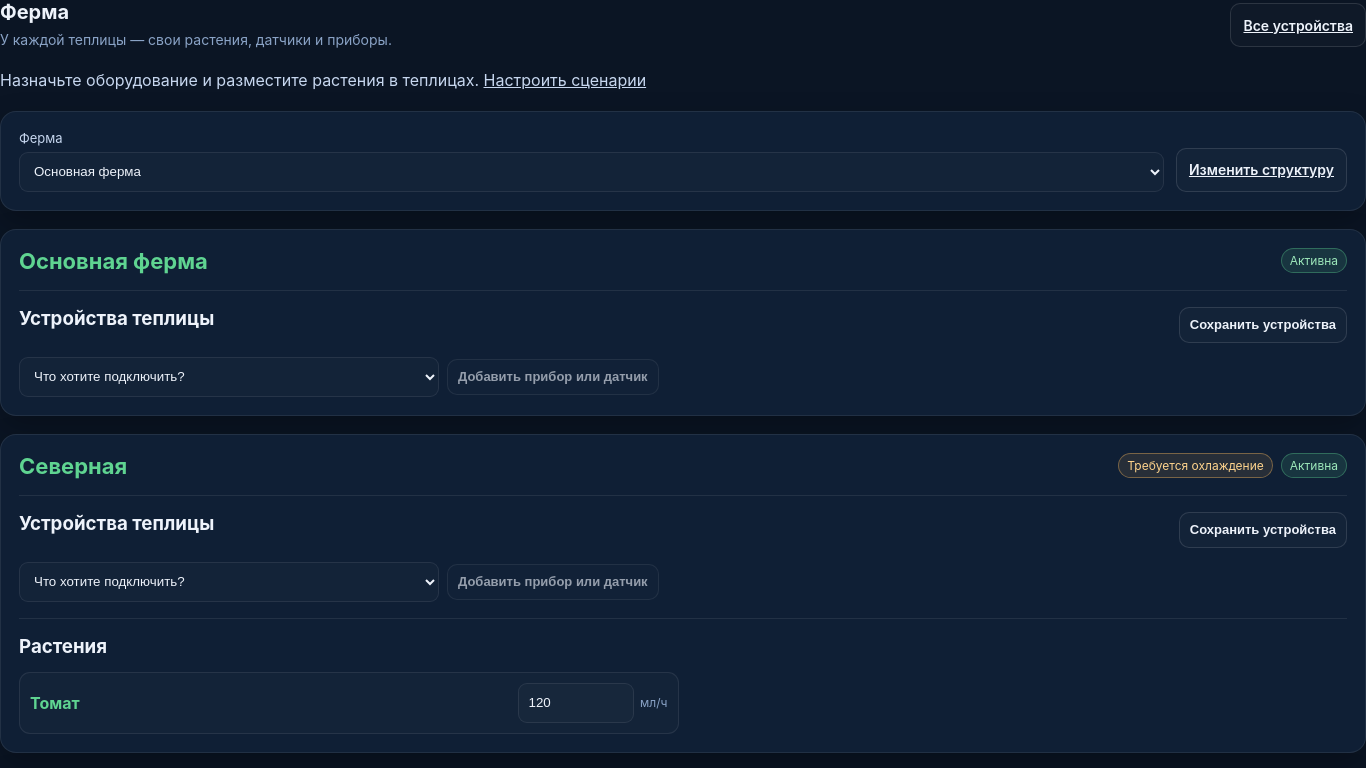
Test case: FarmConstructor › vosstanavlivaet servernuyu skorost pri oshibke
Replace the text in the number field named "Скорость полива для Томат, мл/ч" with "150" at (576, 703), box [518, 683, 634, 723]
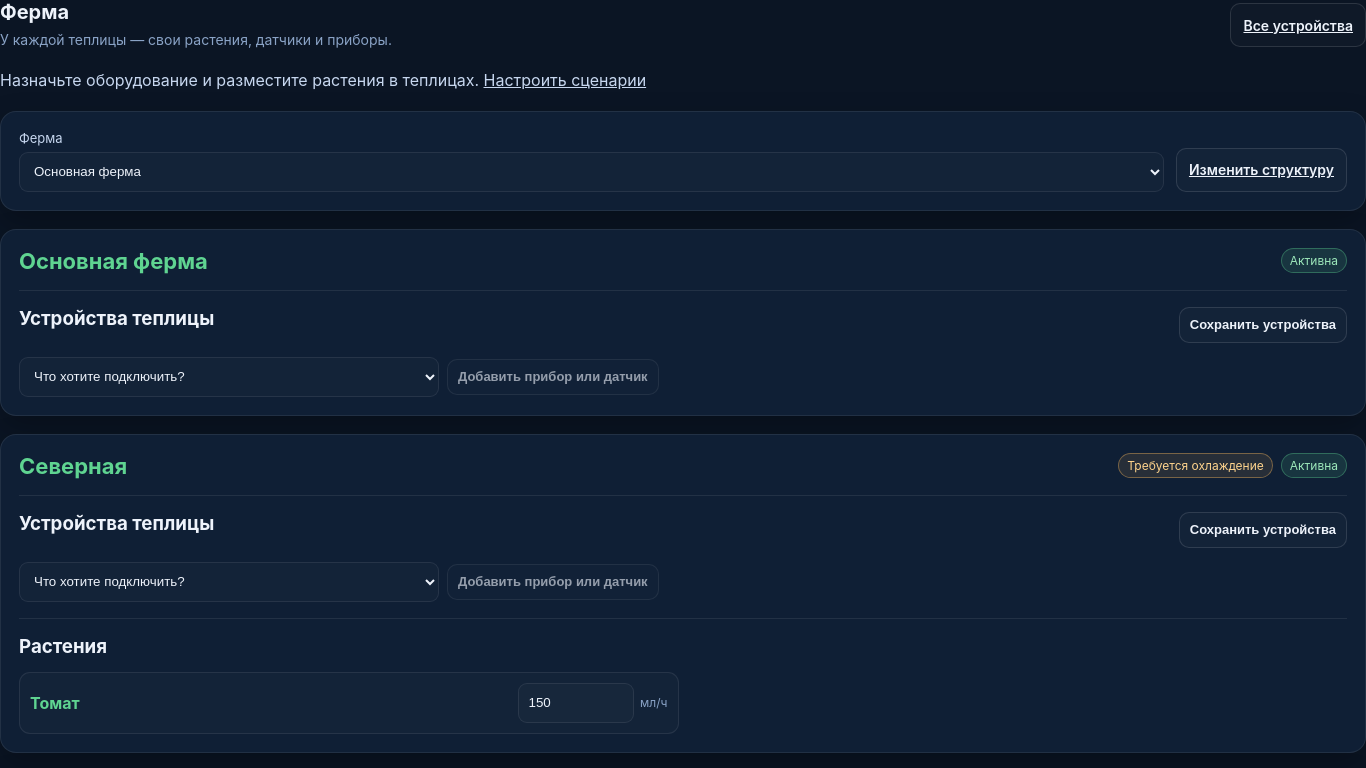
Leave the number field named "Скорость полива для Томат, мл/ч", box [518, 683, 634, 723]
(page scrolled)
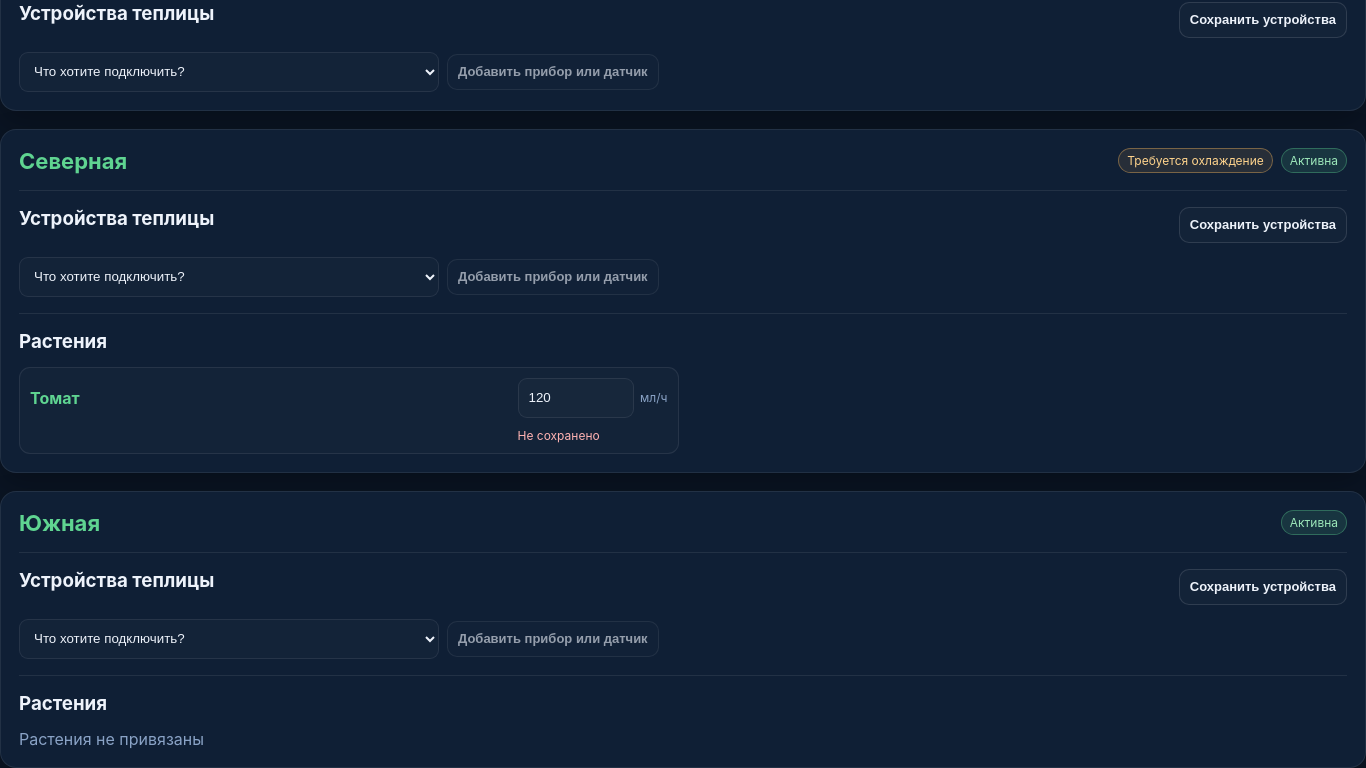
Now the number field named "Скорость полива для Томат, мл/ч" holds "120", box [518, 378, 634, 418]
Now the text "Не сохранено" is shown, box [518, 428, 600, 443]
